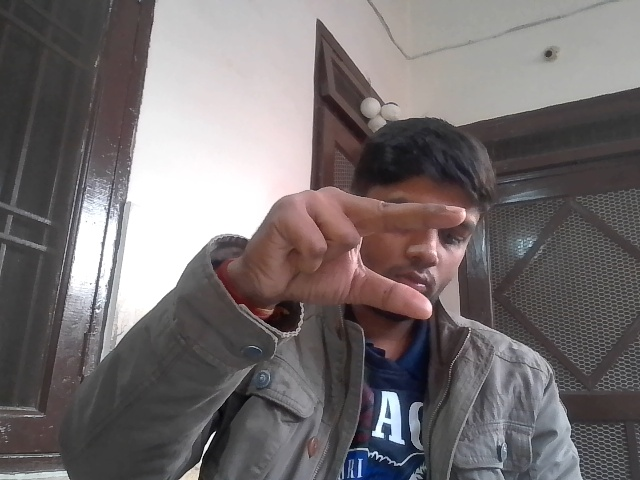No: (253, 179, 511, 367)
